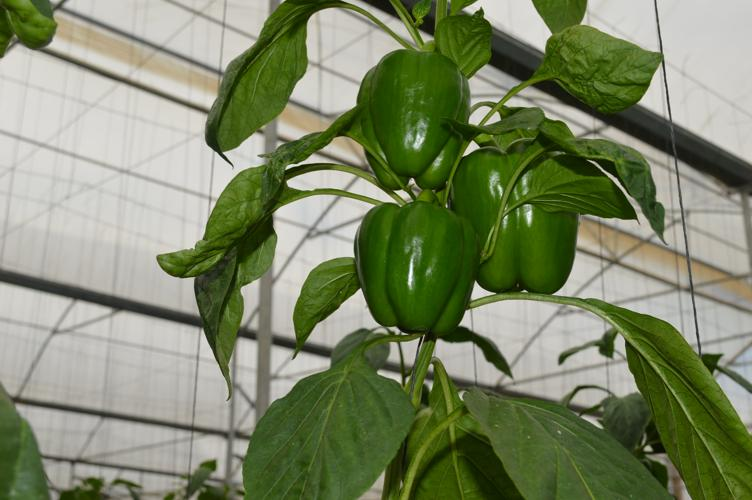BellPepper: (465, 141, 584, 289), (360, 204, 475, 340), (360, 51, 471, 183)
